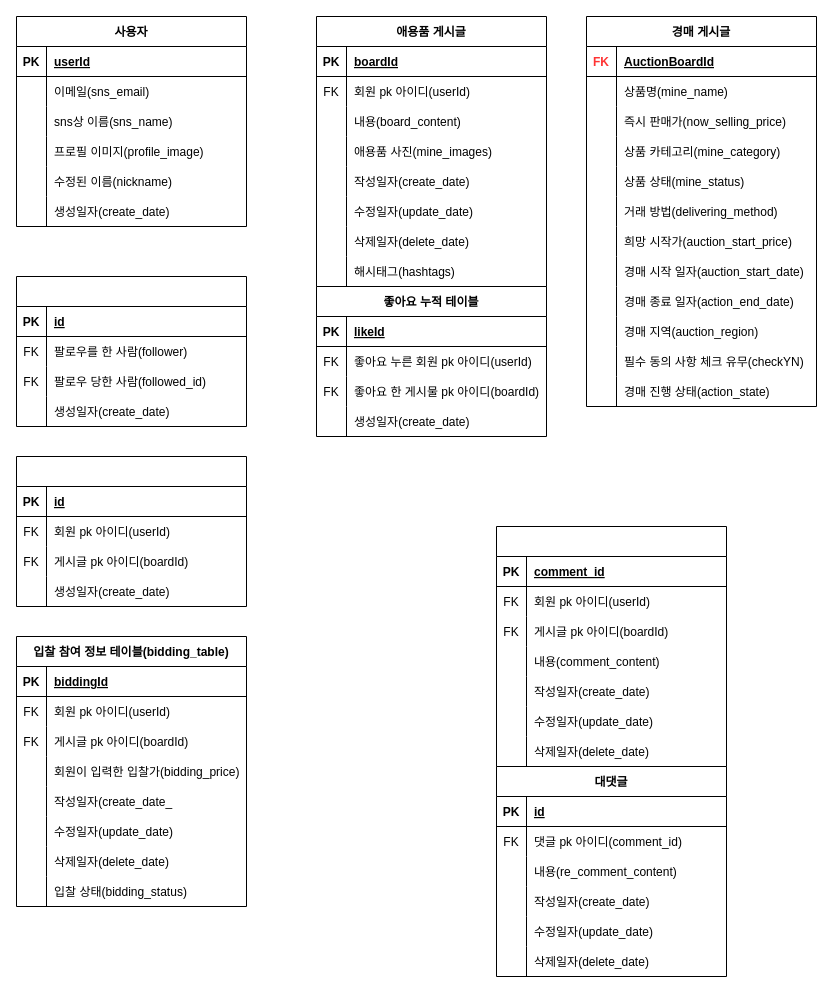
Some shapes in this 833 by 993 pixel diagram are drawn without their labels. Each missing label, with the box of its shape:
댓글: (496, 526, 726, 766)
찜한 게시글: (16, 456, 246, 606)
팔로우 한 명단: (16, 276, 246, 426)
